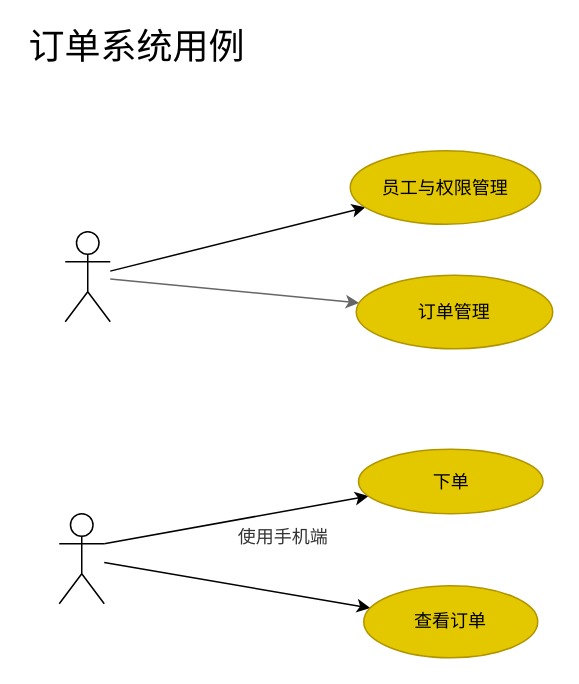
This 579x684 diagram has some shape labels left out. Here are the shapes that lost their labels. From the top down, the centre of each, then its label:
At (87,276): "员工".
At (81,558): "用户".
